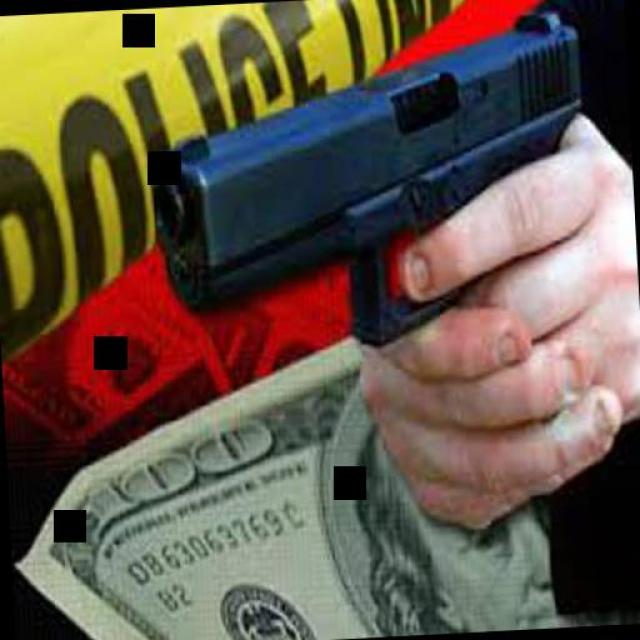gun: (138, 8, 598, 358)
